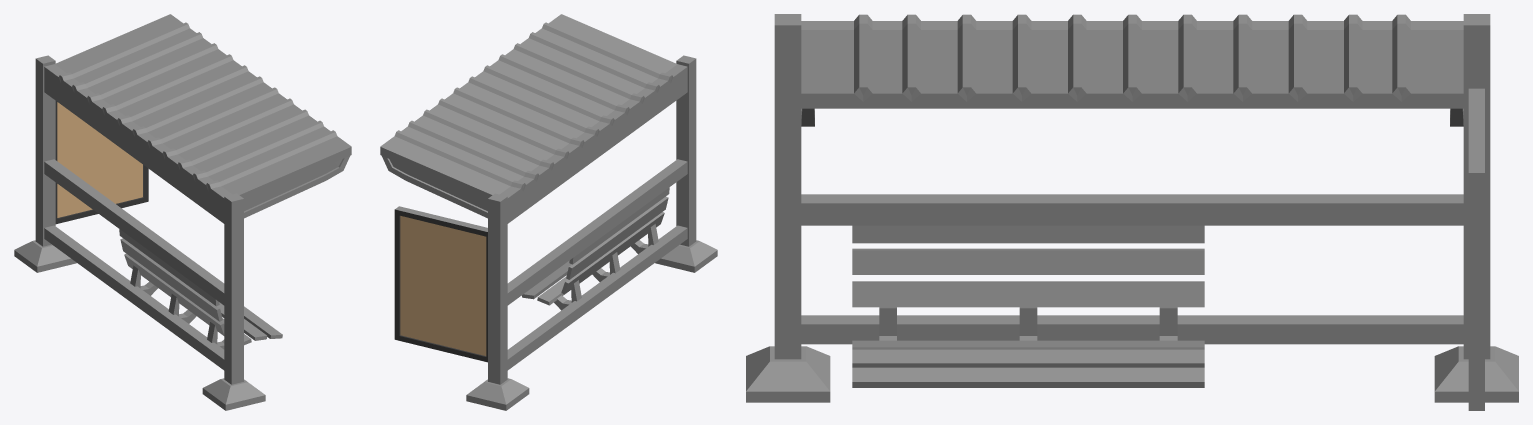
Rendered from BusShelter.fbx.
3 views of the same model, side by side, from view 1: azimuth 30°, elevation 25°; view 2: azimuth 150°, elevation 25°; view 3: azimuth 270°, elevation 25° (orthographic). The views are drawn at different scales.
Visible parts, largest first — view 1: BusShelter; view 2: BusShelter; view 3: BusShelter.
Part boxes in pixels (x1,y1,x2,y2): BusShelter: (14,14,351,410); BusShelter: (380,14,717,410); BusShelter: (746,14,1518,410).
Size of the model in its own units: 148 by 222 by 383.
